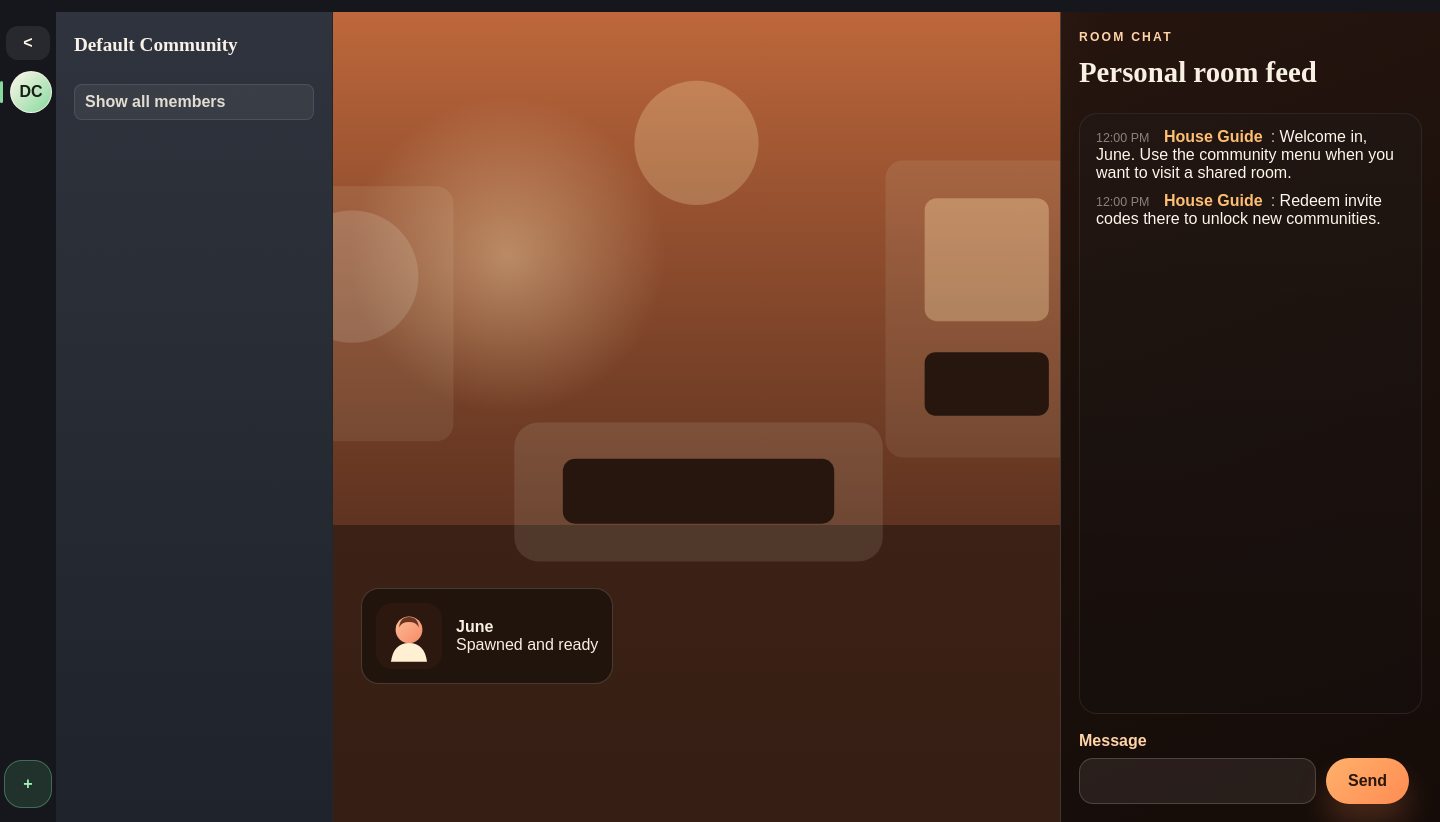
it: LobbyView › lets regular members show all members without settings access
The image size is (1440, 822).
Click the button "Show all members": point(194, 102) [74, 84, 314, 120]
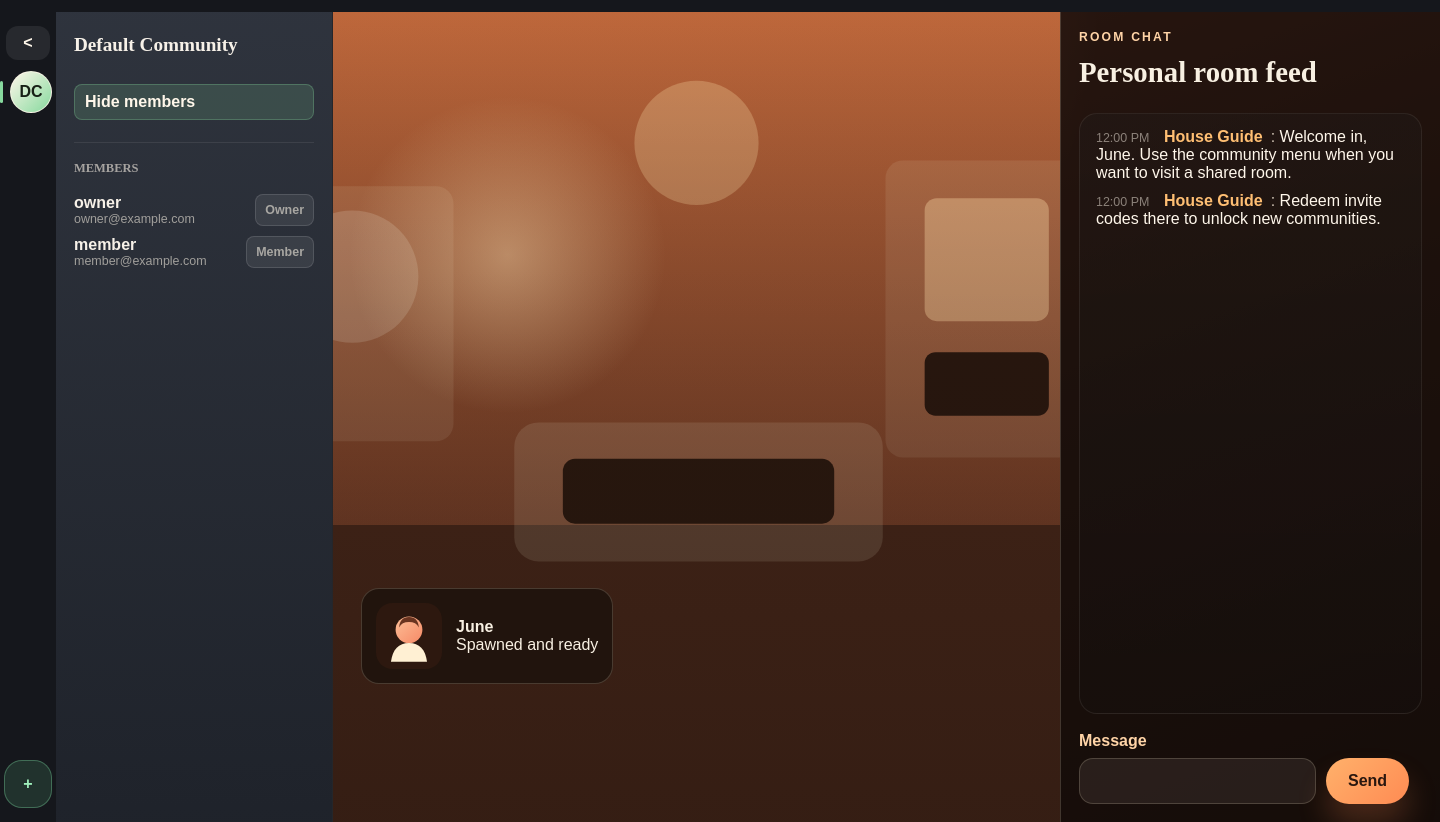
Check: the text "member" is shown, box [74, 236, 136, 253]
Check: the text "Member" is shown, box [246, 236, 314, 268]
